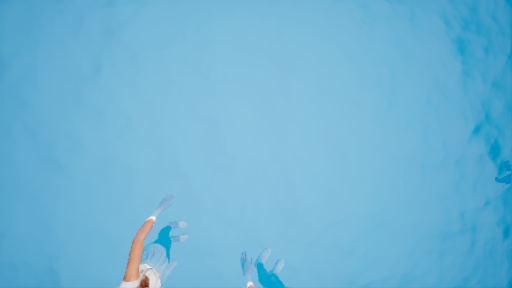person: (103, 198, 217, 287)
